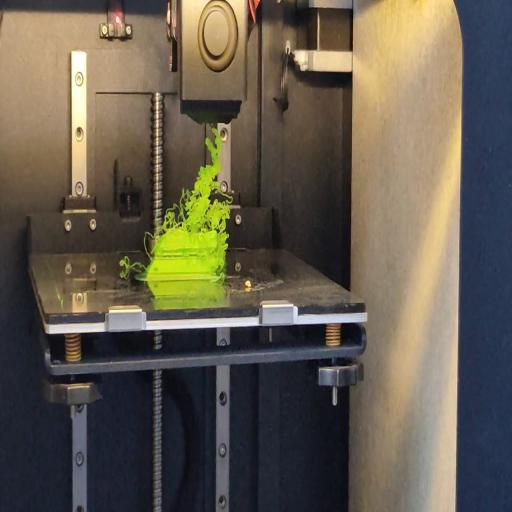spaghetti: (156, 126, 232, 235), (116, 256, 148, 274), (219, 236, 229, 280), (143, 233, 155, 258)
